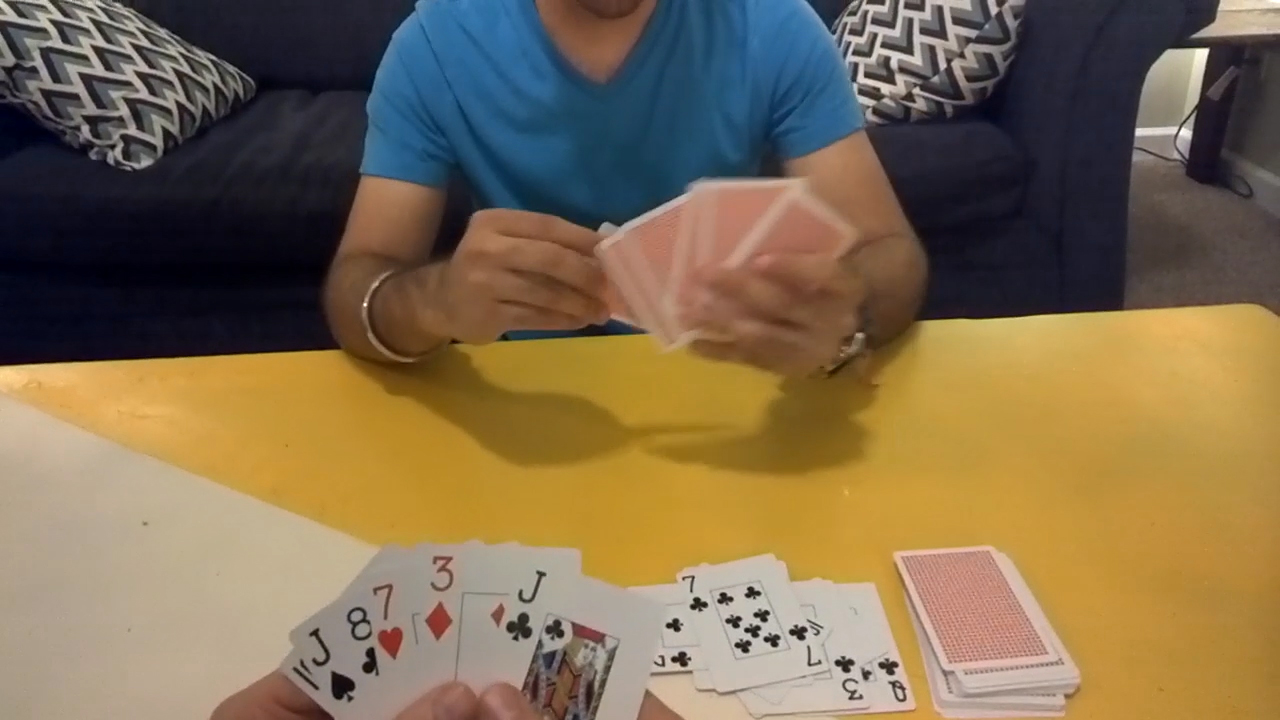hand: (678, 257, 865, 387), (441, 209, 610, 346), (206, 668, 464, 717), (490, 679, 672, 717)
